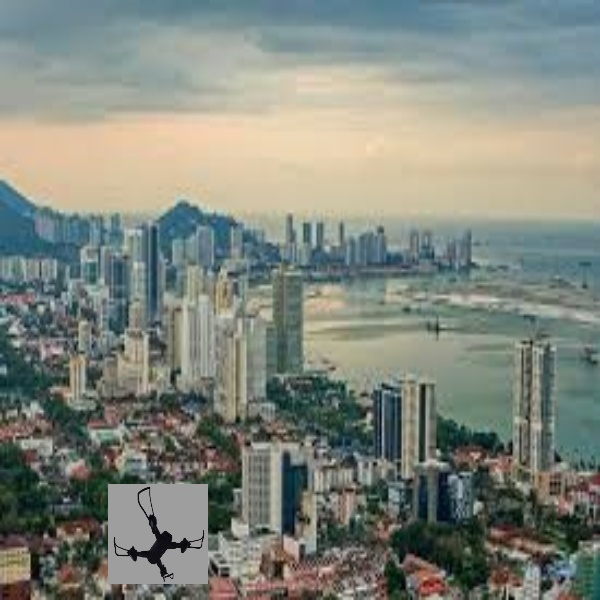drone: (110, 486, 208, 585)
